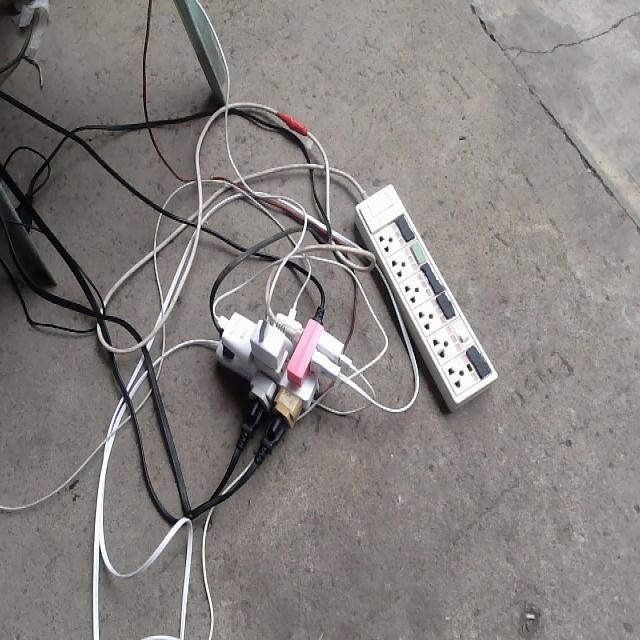-: (197, 292, 360, 465)
